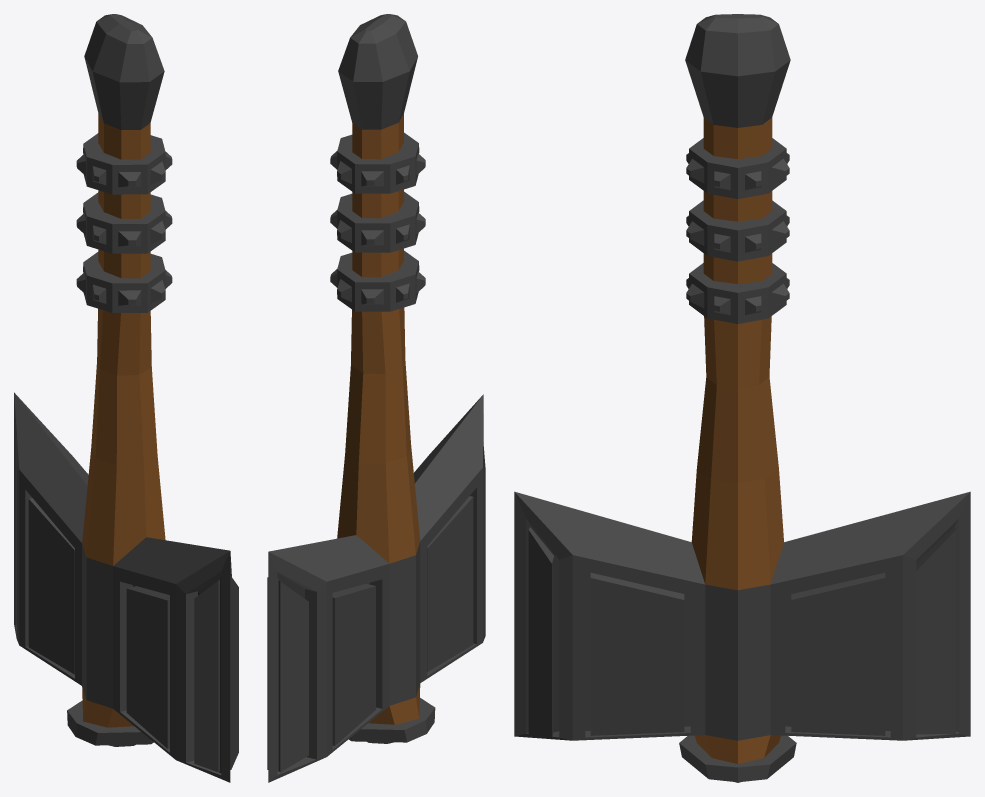
Rendered from LastAxe.fbx.
3 views of the same model, side by side, from view 1: azimuth 30°, elevation 25°; view 2: azimuth 150°, elevation 25°; view 3: azimuth 270°, elevation 25° (orthographic). The views are drawn at different scales.
Visible parts, largest first — view 1: Cylinder.009; view 2: Cylinder.009; view 3: Cylinder.009.
Part boxes in pixels (x1,y1,x2,y2): Cylinder.009: (14,14,238,782); Cylinder.009: (267,14,485,782); Cylinder.009: (514,14,970,782).
Size of the model in its own units: 224 by 1565 by 857.
